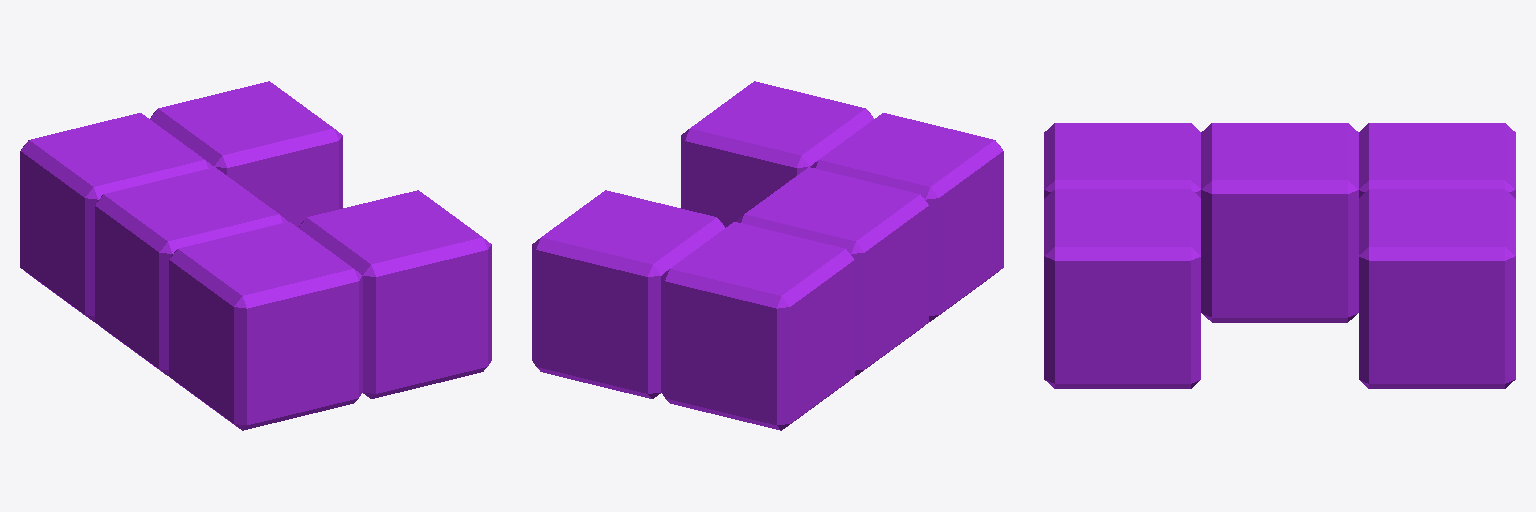
robot.urdf — ball:
<?xml version="1.0" ?>
<robot name="ball">
    <material name="light_gold">
        <color rgba="0.9333333333333333 0.8627450980392157 0.5098039215686274 1"/>
    </material>
    <material name="gray">
        <color rgba="0.7450980392156863 0.7450980392156863 0.7450980392156863 1"/>
    </material>
    <material name="red">
        <color rgba="1 0 0 1"/>
    </material>
    <material name="orange">
        <color rgba="1 0.647058823 0 1"/>
    </material>
     <material name="yellow">
        <color rgba="1 1 0 1"/>
    </material>
    <material name="green">
        <color rgba="0 0.9803921 0.603921   1"/>
    </material>

    <material name="blue">
        <color rgba="0.52941176 0.807843 1   1"/>
    </material>
    <material name="purple">
        <color rgba="0.698 0.2274509 0.933333   1"/>
    </material>


  <link name="ballLink">
    <contact>
      <lateral_friction value="1"/>
    </contact>
    <inertial>
      <origin rpy="0 0 0" xyz="0.012 0 0"/>
       <mass value="0.085"/>
       <inertia ixx="0.00007178" ixy=" 0.00000" ixz="0.00000000"
               iyy="0.00004149" iyz="0.00000000"
               izz="0.00010163"/>
    </inertial>
    <visual>
      <origin rpy="0 0 0" xyz="0.0 0.0 0.0"/>
      <geometry>
			<mesh filename="meshes/ao_cube3.STL" scale="1 1 1"/>
      </geometry>
        <material name="purple"/>
    </visual>


   <collision>
      <origin
        xyz="0 0 0"
        rpy="0 0 0" />
      <geometry>
       <box size="0.03 0.09 0.03"/>
      </geometry>
    </collision>

    <collision>
      <origin
        xyz="0.03 0.03 0"
        rpy="0 0 0" />
      <geometry>
       <box size="0.03 0.03 0.03"/>
      </geometry>
    </collision>

    <collision>
      <origin
        xyz="0.03 -0.03 0"
        rpy="0 0 0" />
      <geometry>
       <box size="0.03 0.03 0.03"/>
      </geometry>
    </collision>
  </link>
</robot>

--- What the picture shows (computed from the rendered views, not written in the file) ---
Views: 3 orthographic renders of the robot side by side, from view 1: azimuth 30°, elevation 25°; view 2: azimuth 150°, elevation 25°; view 3: azimuth 270°, elevation 25°.
Robot: ball — 1 links, 0 joints (none); root link ballLink; default pose: every joint at zero.
Visible links, largest first — view 1: ballLink; view 2: ballLink; view 3: ballLink.
Boxes of the visible links, x1,y1,x2,y2 form: ballLink: [20, 81, 491, 430]; ballLink: [532, 81, 1003, 430]; ballLink: [1044, 123, 1515, 388].
Size in the robot's own frame: 0.06 by 0.09 by 0.03 metres.
Meshes: 1 distinct files referenced, 1 mesh visuals loaded (1 binary STL).